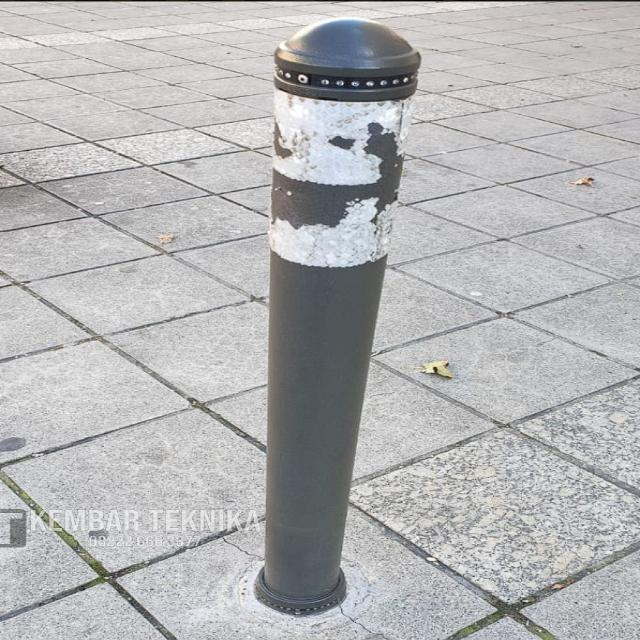obstacle: (266, 19, 396, 615)
